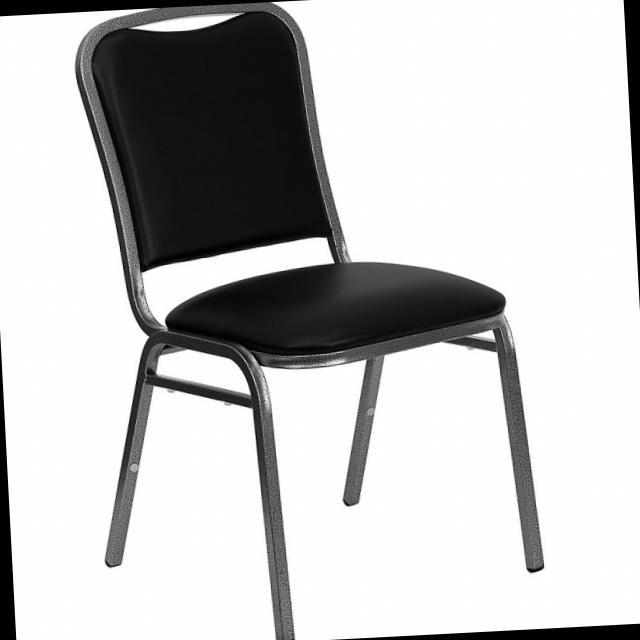chair: (71, 0, 553, 640)
